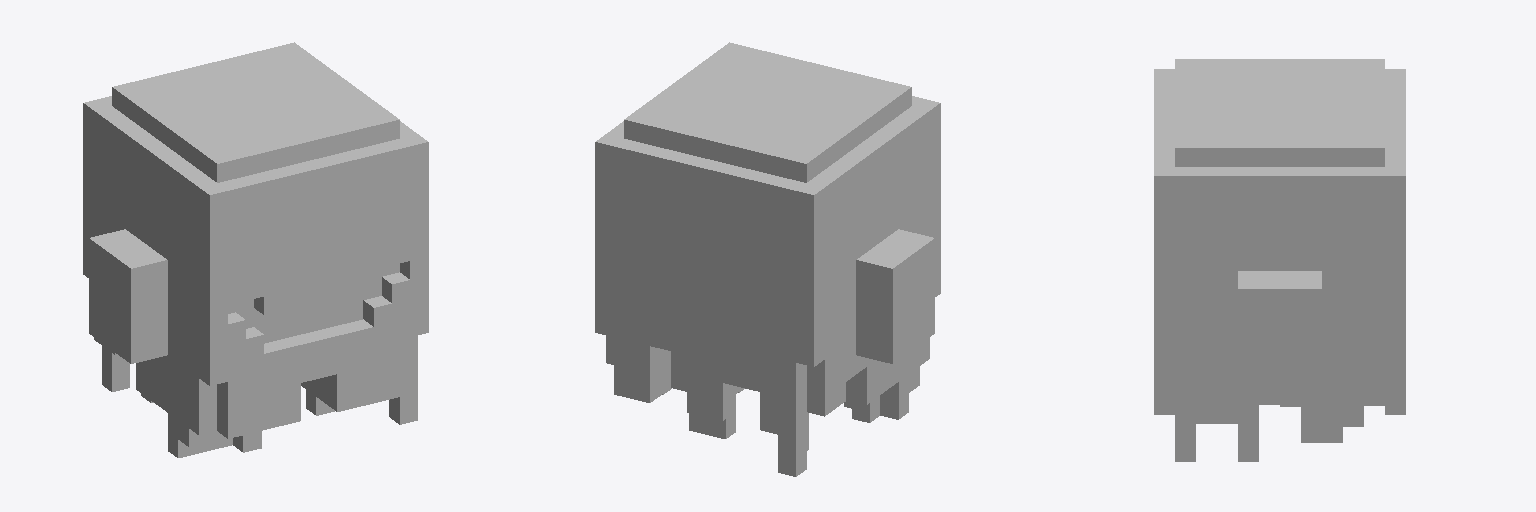
Rendered from Boss.obj.
3 renders of one model, left to right at view 1: azimuth 30°, elevation 25°; view 2: azimuth 150°, elevation 25°; view 3: azimuth 270°, elevation 25°, orthographic.
Parts seen in each view (by area): view 1: object 1; view 2: object 1; view 3: object 1.
Boxes of the visible parts, box(x1,y1,x2,y2) form: object 1: box(83, 42, 428, 457); object 1: box(595, 42, 940, 476); object 1: box(1154, 59, 1405, 461).
Size of the model in its own units: 1.6 by 1.6 by 1.2.